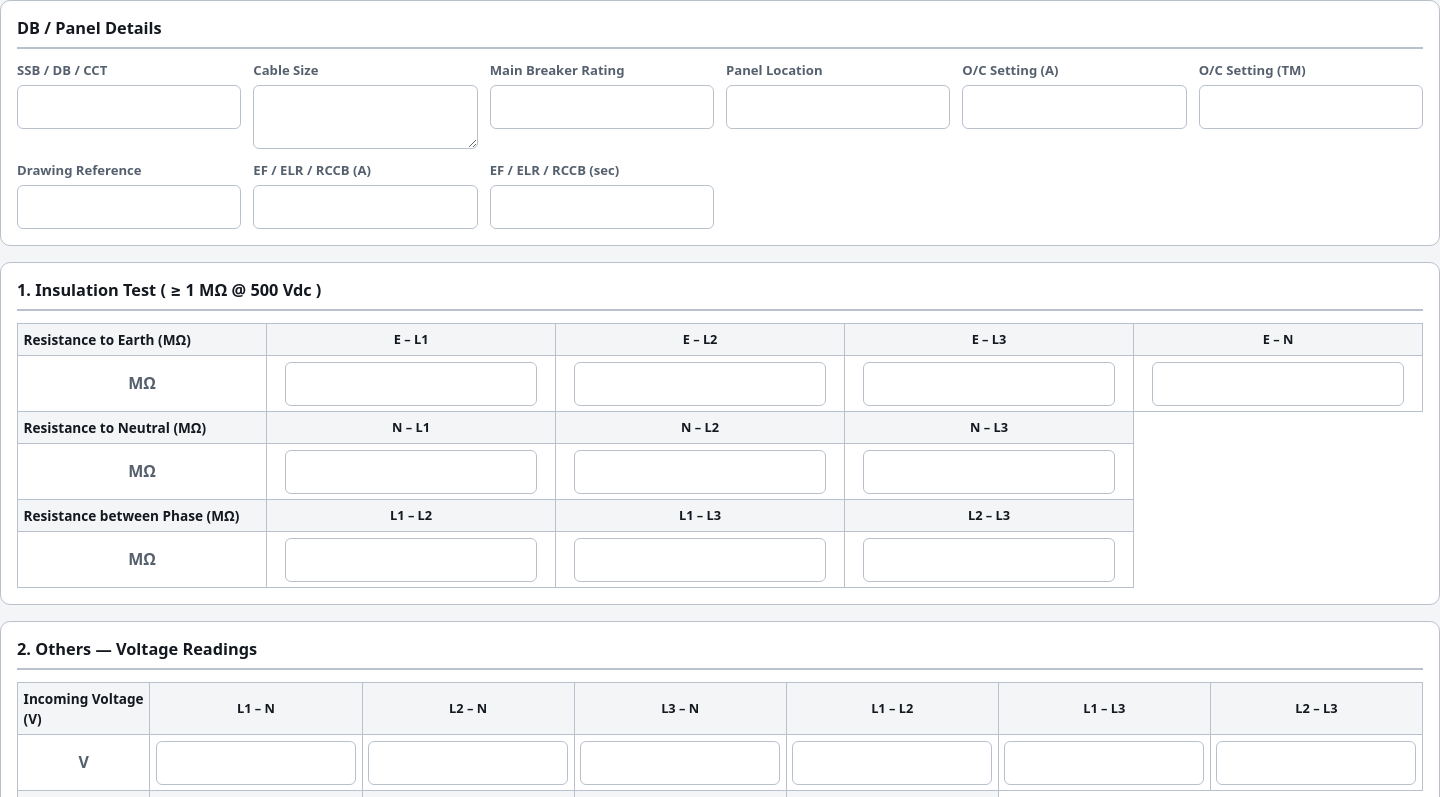
Power Turn-on renders through the generic renderer › evaluates a matrix cell against the section limit (≥ 1 MΩ)
Type "0.5" into the number field named "Resistance to Earth E – L1". click: (411, 384)
box: [285, 362, 537, 406]
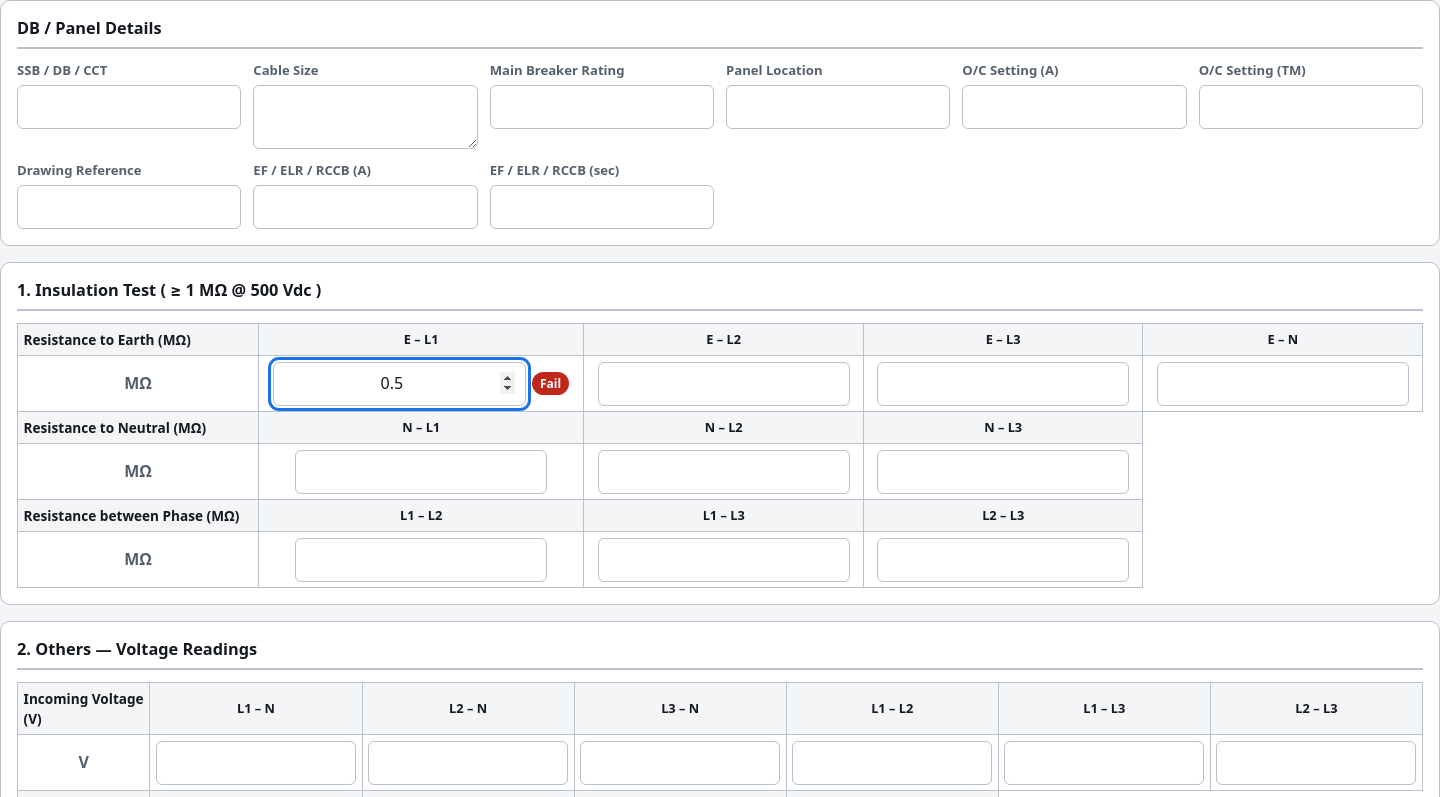
Now the text "Fail" is shown, box [532, 372, 569, 396]
